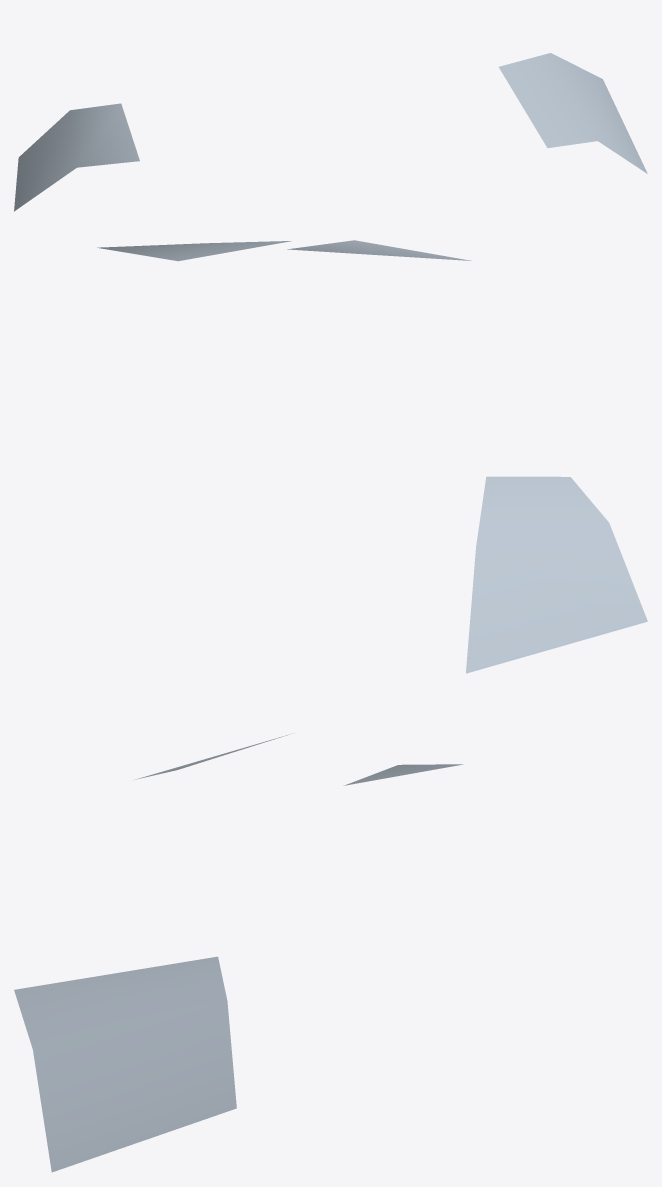
The model's file is dorsal-cuneonavicular-ligaments-r.glb.
The picture shows the model from 3 angles, top to bottom: view 1: azimuth 30°, elevation 25°; view 2: azimuth 150°, elevation 25°; view 3: azimuth 270°, elevation 25°; orthographic projection. The views are drawn at different scales.
Parts seen in each view (by area): view 1: Dorsal cuneonavicular ligaments.r; view 2: Dorsal cuneonavicular ligaments.r; view 3: Dorsal cuneonavicular ligaments.r.
Part boxes in pixels (bbox=[...]): Dorsal cuneonavicular ligaments.r: bbox=[14, 53, 647, 211]; Dorsal cuneonavicular ligaments.r: bbox=[97, 240, 647, 673]; Dorsal cuneonavicular ligaments.r: bbox=[14, 733, 463, 1172].
Bounding box in the file's own units: 0.0308 × 0.0101 × 0.0209.
